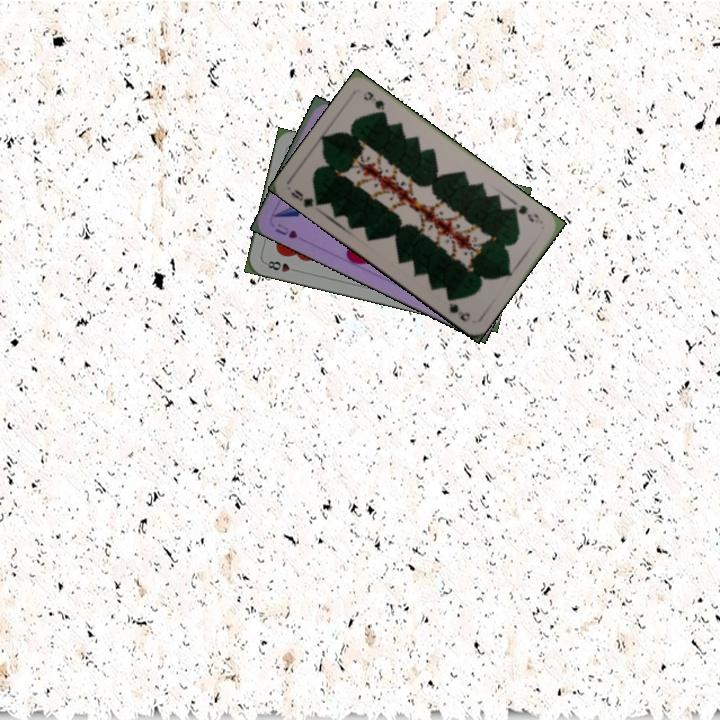G9: (507, 201, 544, 226), (287, 186, 325, 210)
H8: (261, 257, 301, 275)
HU: (271, 220, 300, 241)
